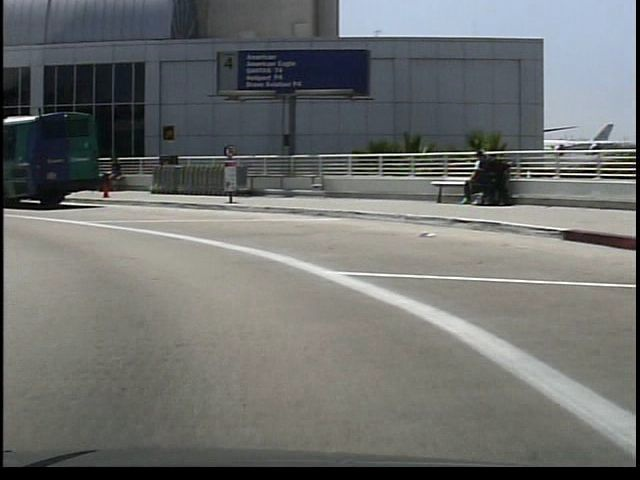person: (100, 152, 123, 196)
